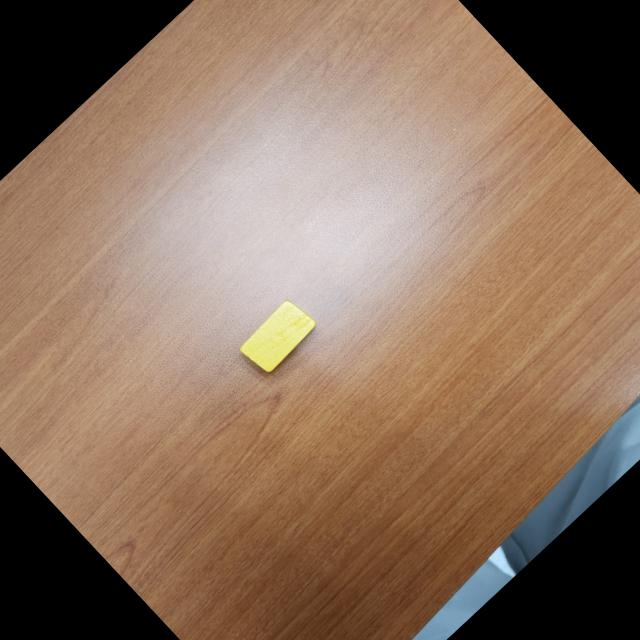yellow: (234, 293, 322, 380)
